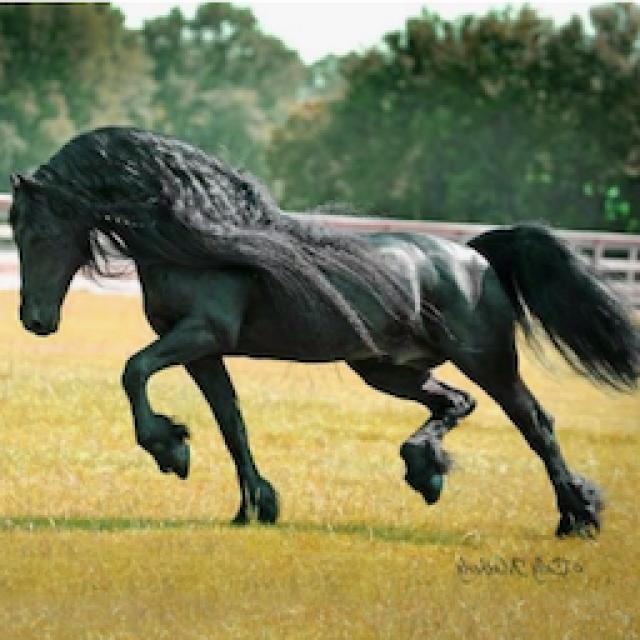Horse: (2, 118, 640, 542)
